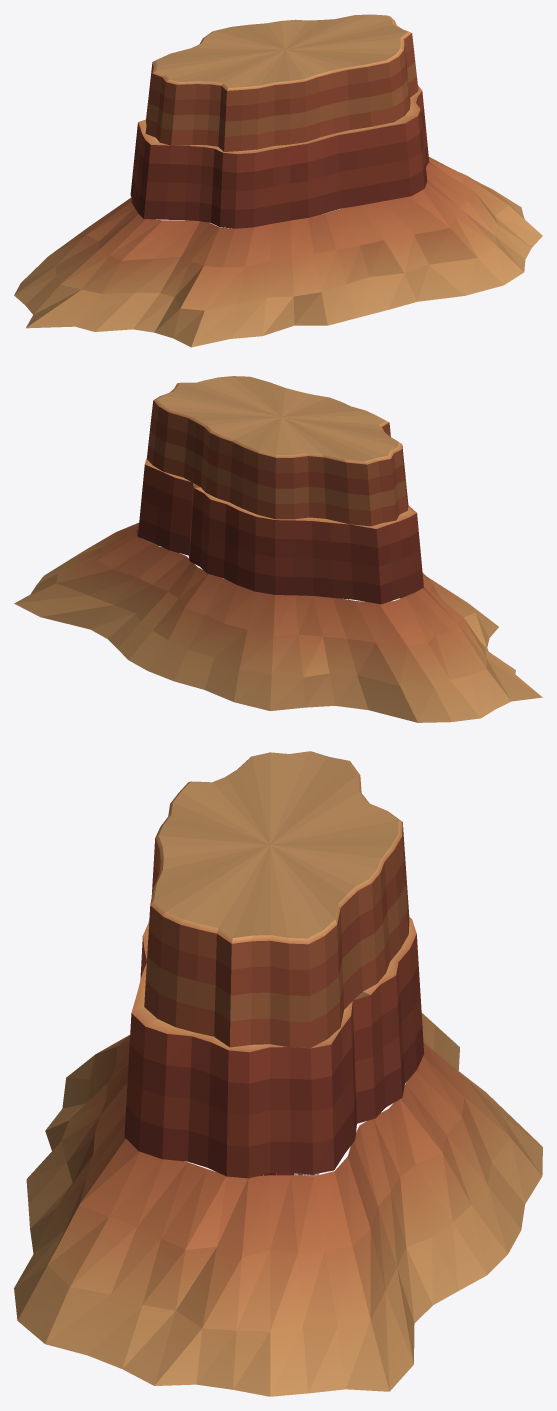
Rendered from env_arizona.glb.
3 renders of one model, top to bottom at view 1: azimuth 30°, elevation 25°; view 2: azimuth 150°, elevation 25°; view 3: azimuth 270°, elevation 25°, orthographic. The views are drawn at different scales.
Visible parts, largest first — view 1: SM_Butte_A; view 2: SM_Butte_A; view 3: SM_Butte_A.
Part boxes in pixels (left/top/right/bottom): SM_Butte_A: left=14, top=14, right=542, bottom=347; SM_Butte_A: left=14, top=376, right=542, bottom=722; SM_Butte_A: left=14, top=751, right=542, bottom=1396.
Bounding box in the file's own units: 121 × 50.2 × 66.96.
